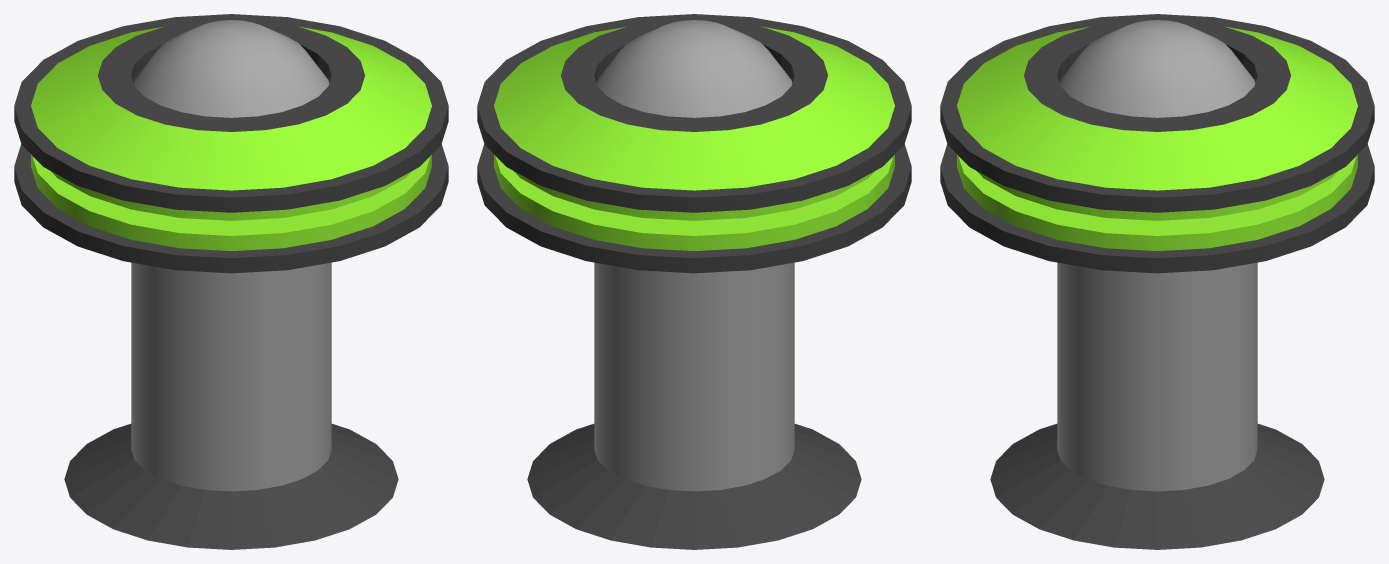
The model's file is BumperDisc.fbx.
The picture shows the model from 3 angles, left to right: view 1: azimuth 30°, elevation 25°; view 2: azimuth 150°, elevation 25°; view 3: azimuth 270°, elevation 25°; orthographic projection.
Parts seen in each view (by area): view 1: BumperDisc; view 2: BumperDisc; view 3: BumperDisc.
Part boxes in pixels (left/top/right/bottom): BumperDisc: left=14, top=14, right=448, bottom=549; BumperDisc: left=477, top=14, right=911, bottom=549; BumperDisc: left=940, top=14, right=1374, bottom=549.
Size of the model in its own units: 65 by 74.15 by 65.
